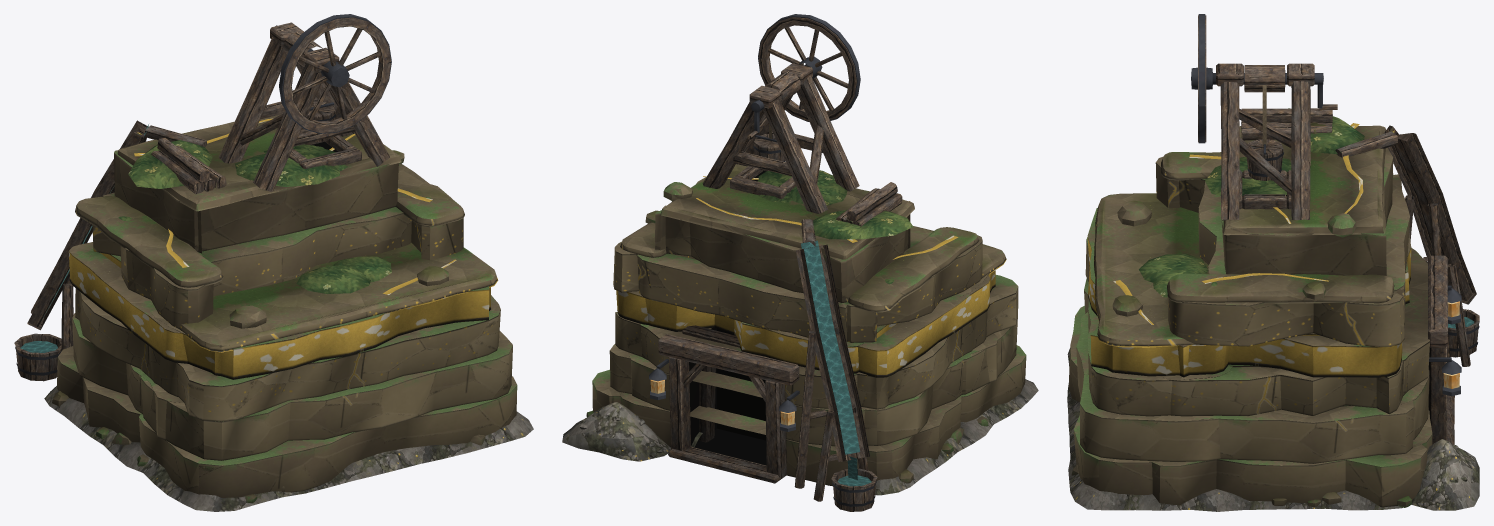
Rendered from gold_mine.glb.
3 views of the same model, side by side, from view 1: azimuth 30°, elevation 25°; view 2: azimuth 150°, elevation 25°; view 3: azimuth 270°, elevation 25° (orthographic). The views are drawn at different scales.
Parts seen in each view (by area): view 1: gold_mine, windlass_drum; view 2: gold_mine, windlass_drum, windlass_bucket; view 3: gold_mine, windlass_drum, windlass_bucket.
Part boxes in pixels (<box>): gold_mine: <box>14,22,533,511</box>; windlass_drum: <box>275,14,391,133</box>; gold_mine: <box>562,62,1038,511</box>; windlass_drum: <box>747,14,860,139</box>; windlass_bucket: <box>753,124,785,170</box>; gold_mine: <box>1067,63,1479,511</box>; windlass_drum: <box>1191,14,1337,143</box>; windlass_bucket: <box>1246,85,1283,180</box>.
Bounding box in the file's own units: 5.98 × 6.64 × 5.93.
2 materials, 2 textured.
